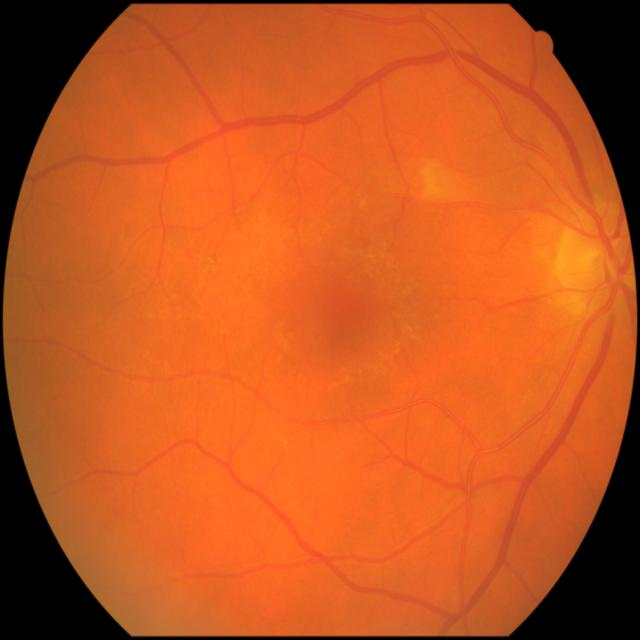OD: (554, 205, 638, 309)
